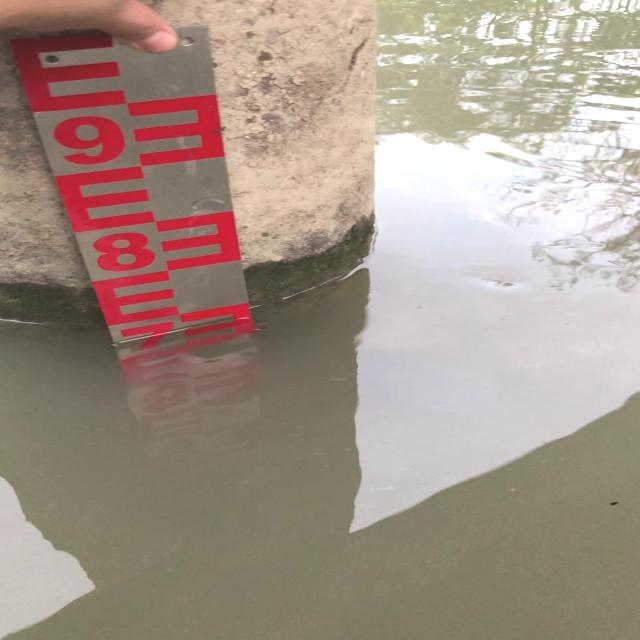ruler: (1, 0, 258, 343)
value: (30, 103, 142, 175), (69, 223, 167, 280)
